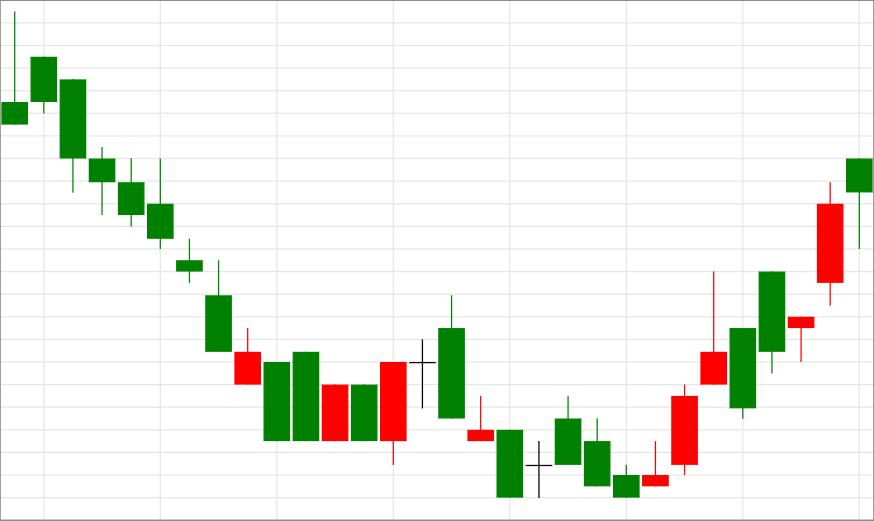hanging_man_fall: (642, 158, 873, 486)
